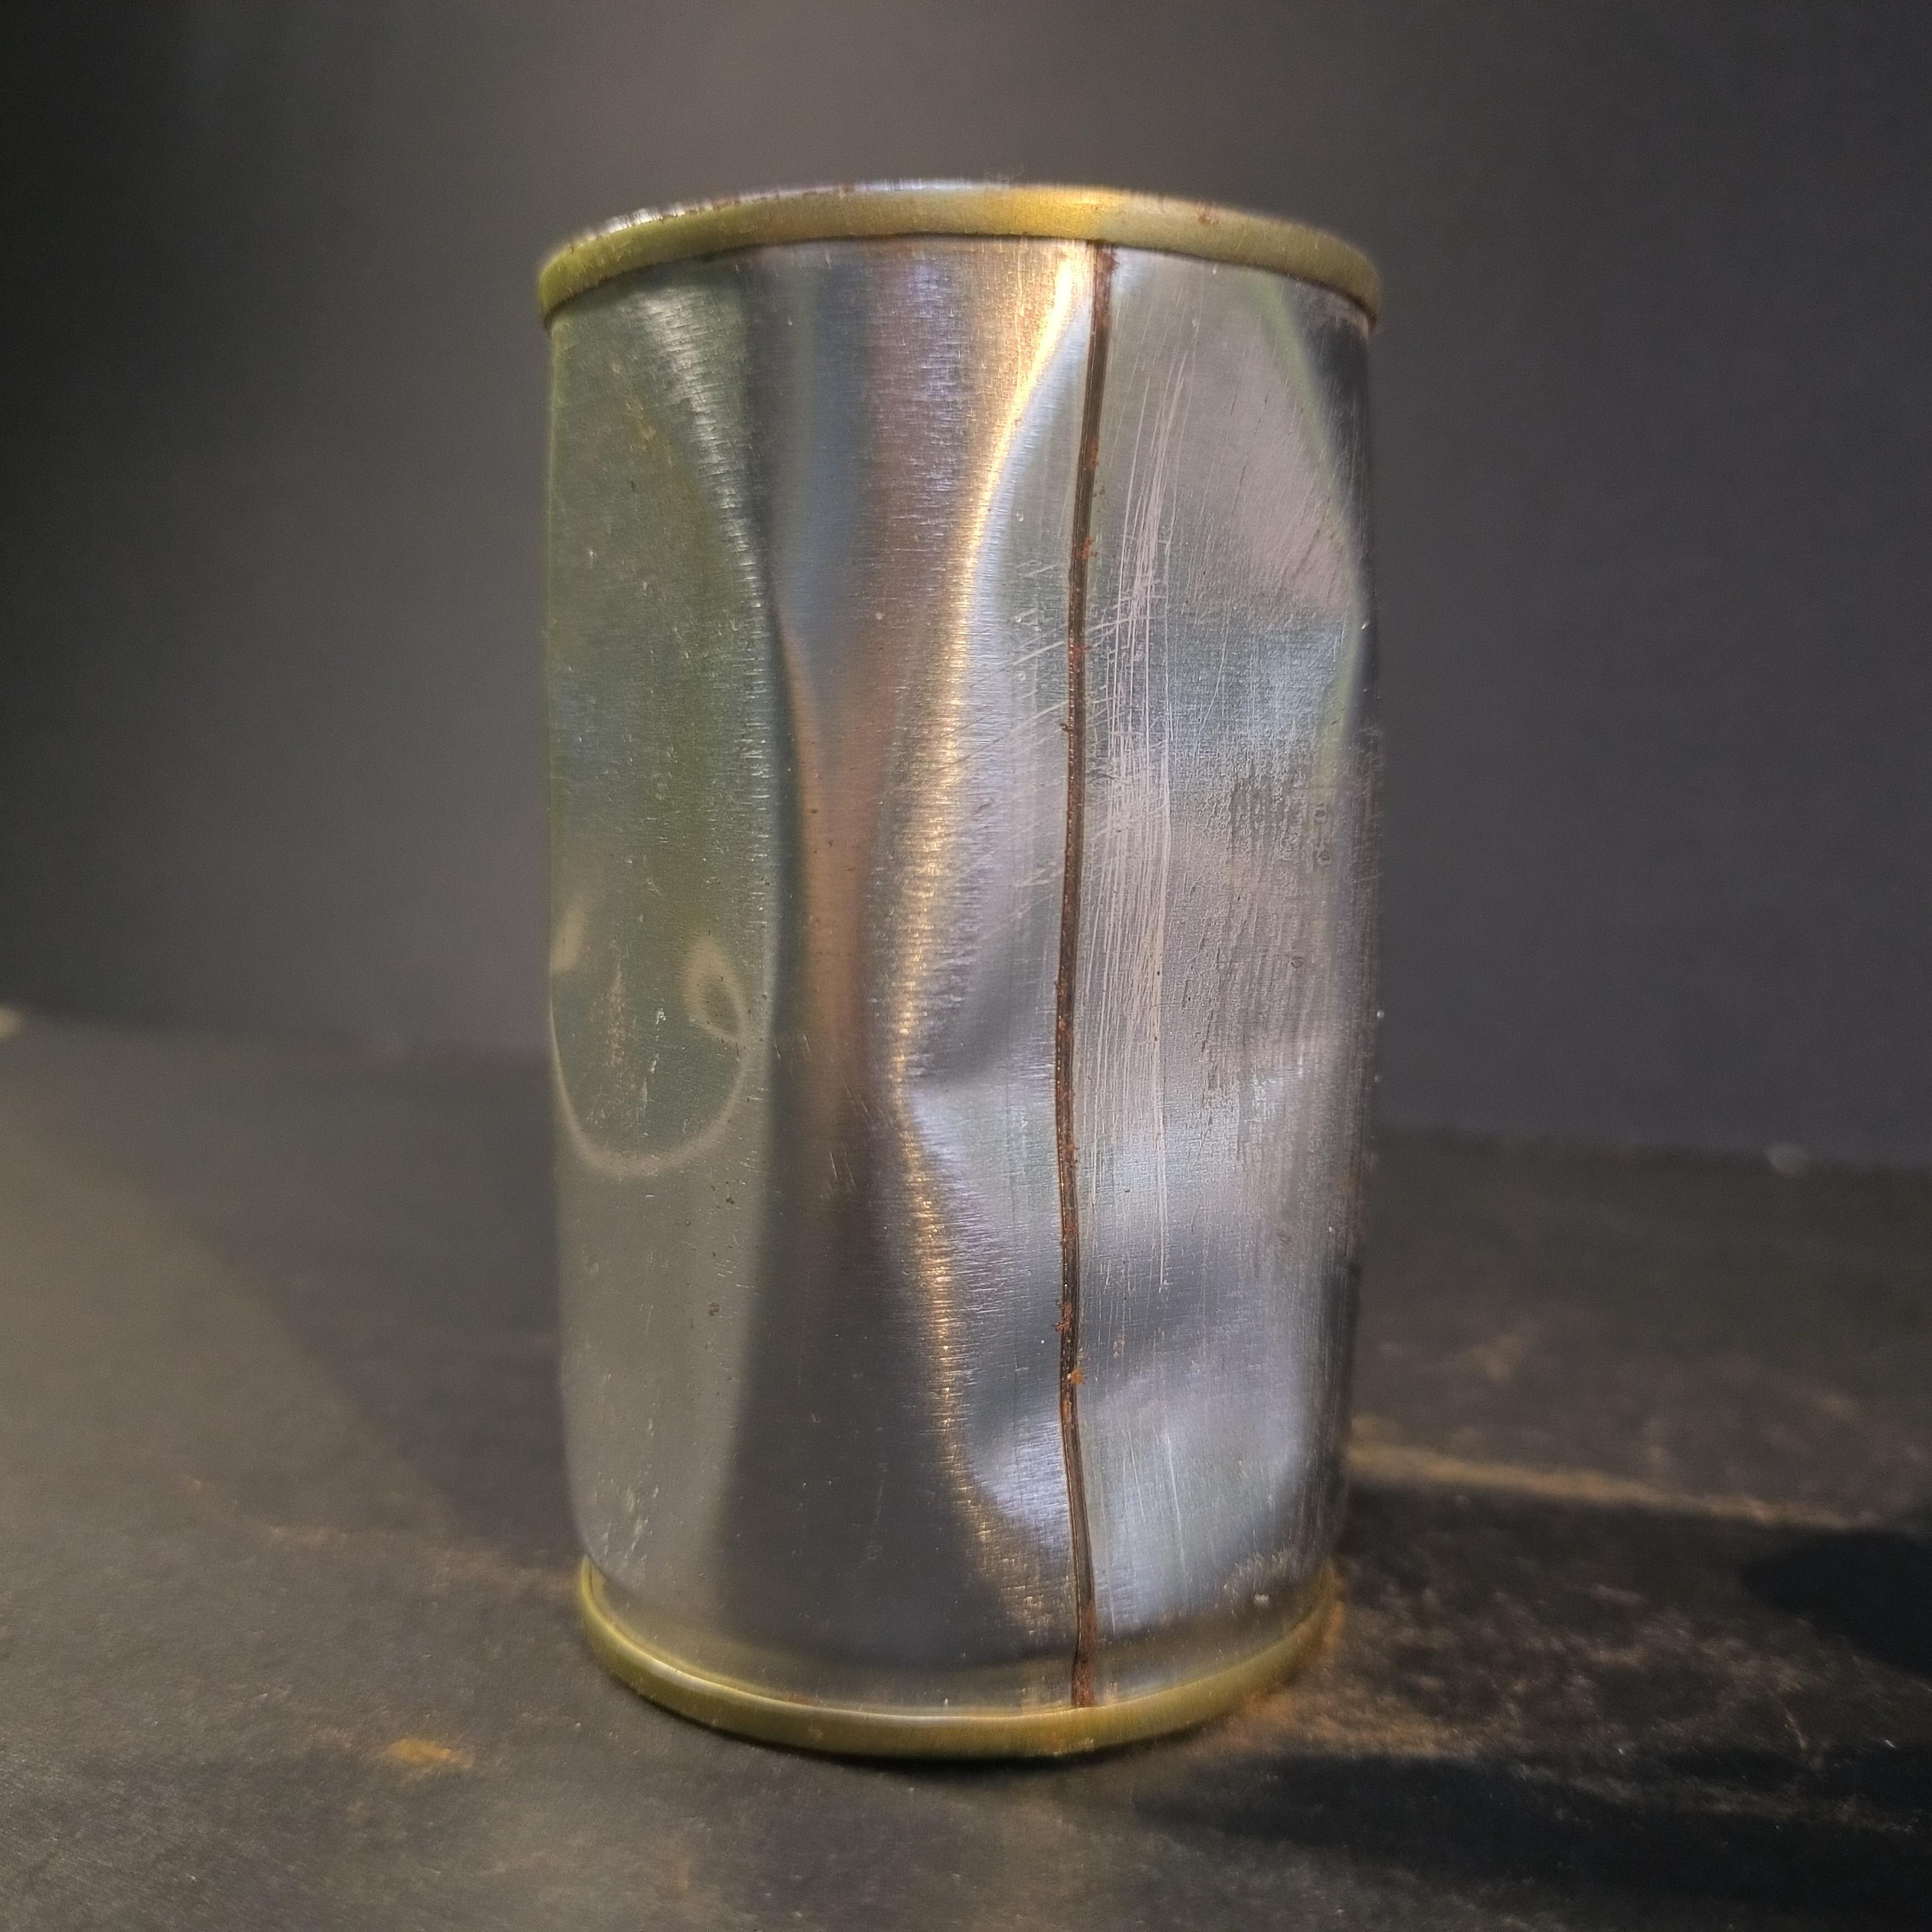Dented: (504, 152, 1408, 1789)
